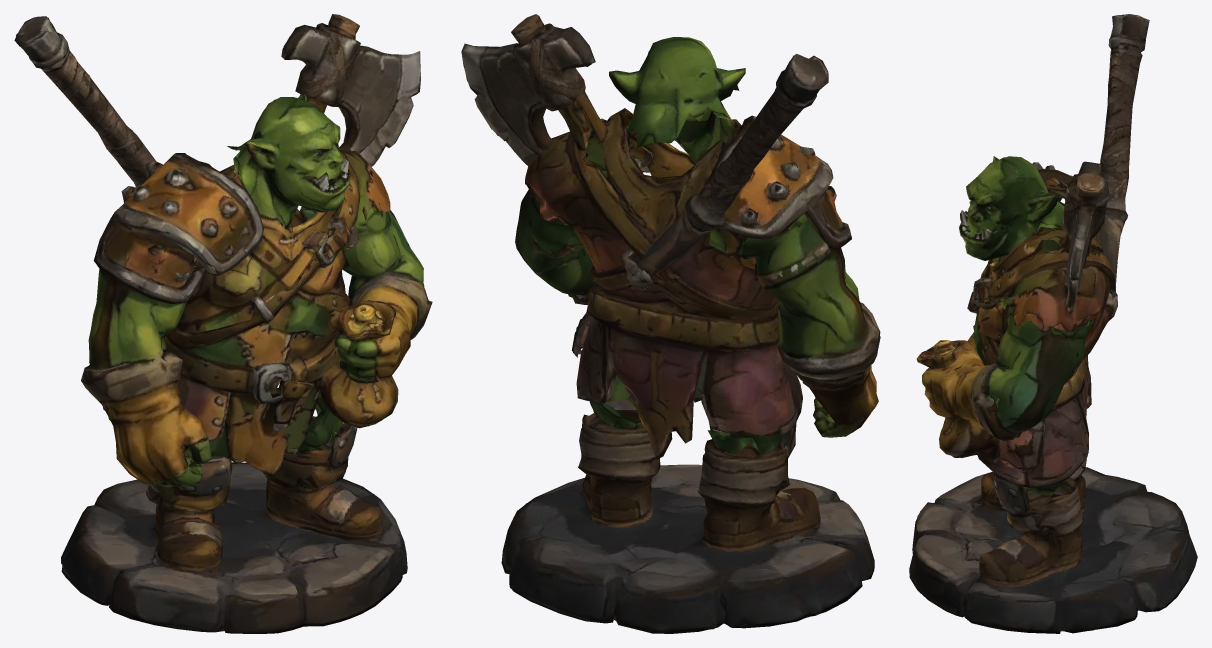
Rendered from hero-grub.glb.
The picture shows the model from 3 angles, left to right: view 1: azimuth 30°, elevation 25°; view 2: azimuth 150°, elevation 25°; view 3: azimuth 270°, elevation 25°; orthographic projection. The views are drawn at different scales.
Parts seen in each view (by area): view 1: geometry_0; view 2: geometry_0; view 3: geometry_0.
Boxes of the visible parts, x1,y1,x2,y2 form: geometry_0: [14, 14, 432, 633]; geometry_0: [461, 14, 880, 633]; geometry_0: [909, 14, 1197, 633].
Bounding box in the file's own units: 0.6321 × 0.9075 × 0.4807.
Materials: 1 (1 with a texture image).
